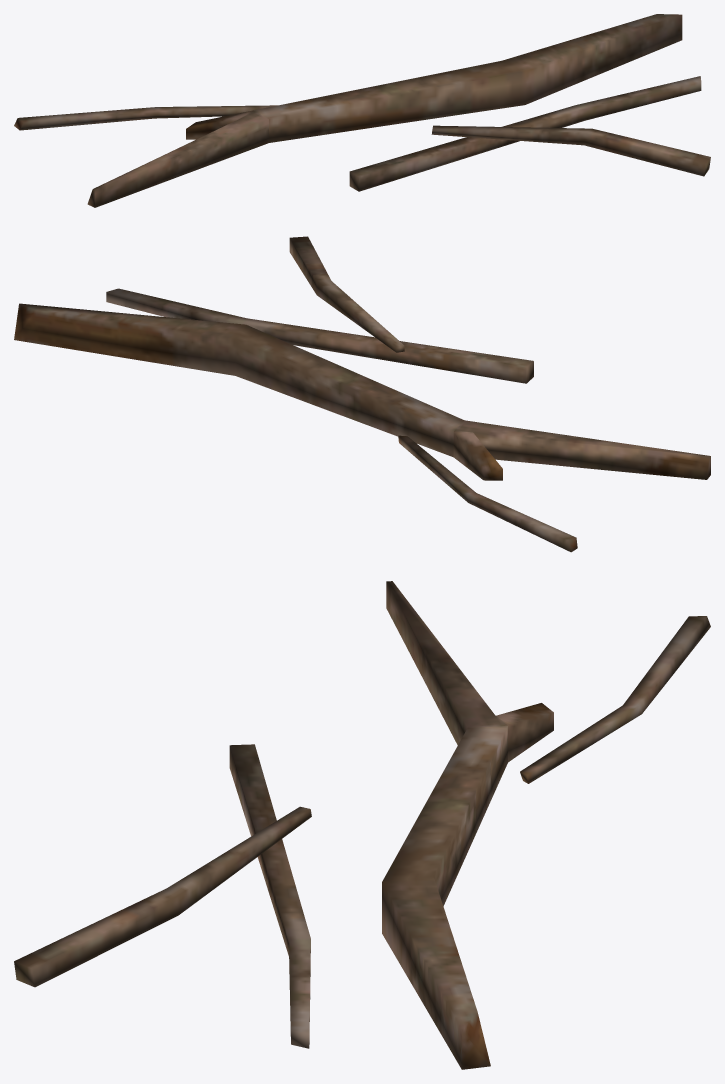
The model's file is Branch.fbx.
3 views of the same model, one above another, from view 1: azimuth 30°, elevation 25°; view 2: azimuth 150°, elevation 25°; view 3: azimuth 270°, elevation 25° (orthographic). The views are drawn at different scales.
Visible parts, largest first — view 1: SM_cmn_mount_Branch_01a; view 2: SM_cmn_mount_Branch_01a; view 3: SM_cmn_mount_Branch_01a.
Boxes of the visible parts, <box> form: SM_cmn_mount_Branch_01a: <box>14,14,710,207</box>; SM_cmn_mount_Branch_01a: <box>14,236,710,552</box>; SM_cmn_mount_Branch_01a: <box>14,581,710,1069</box>.
Size of the model in its own units: 72.39 by 4.09 by 45.95.
